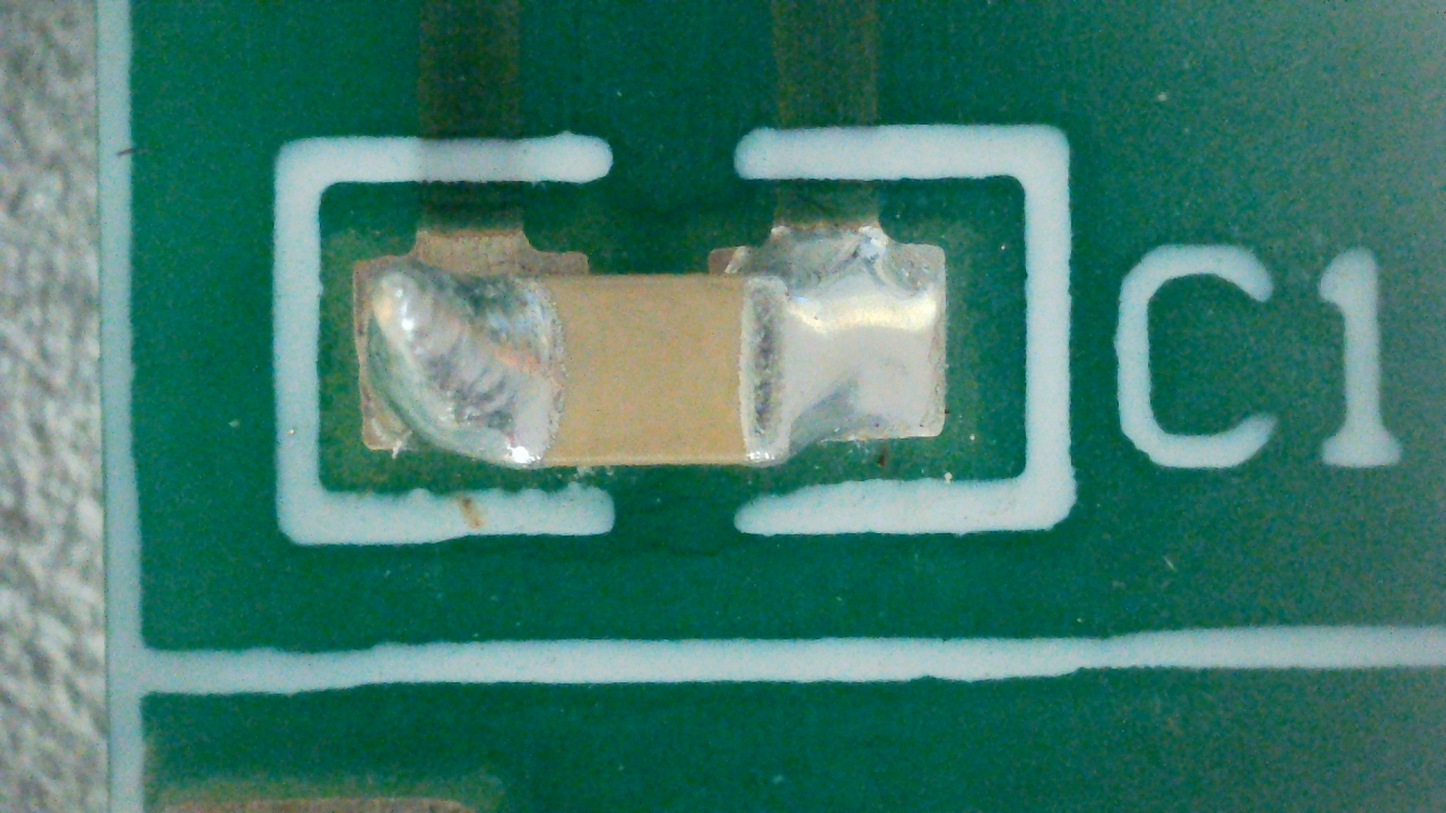NG: (354, 221, 946, 468)
